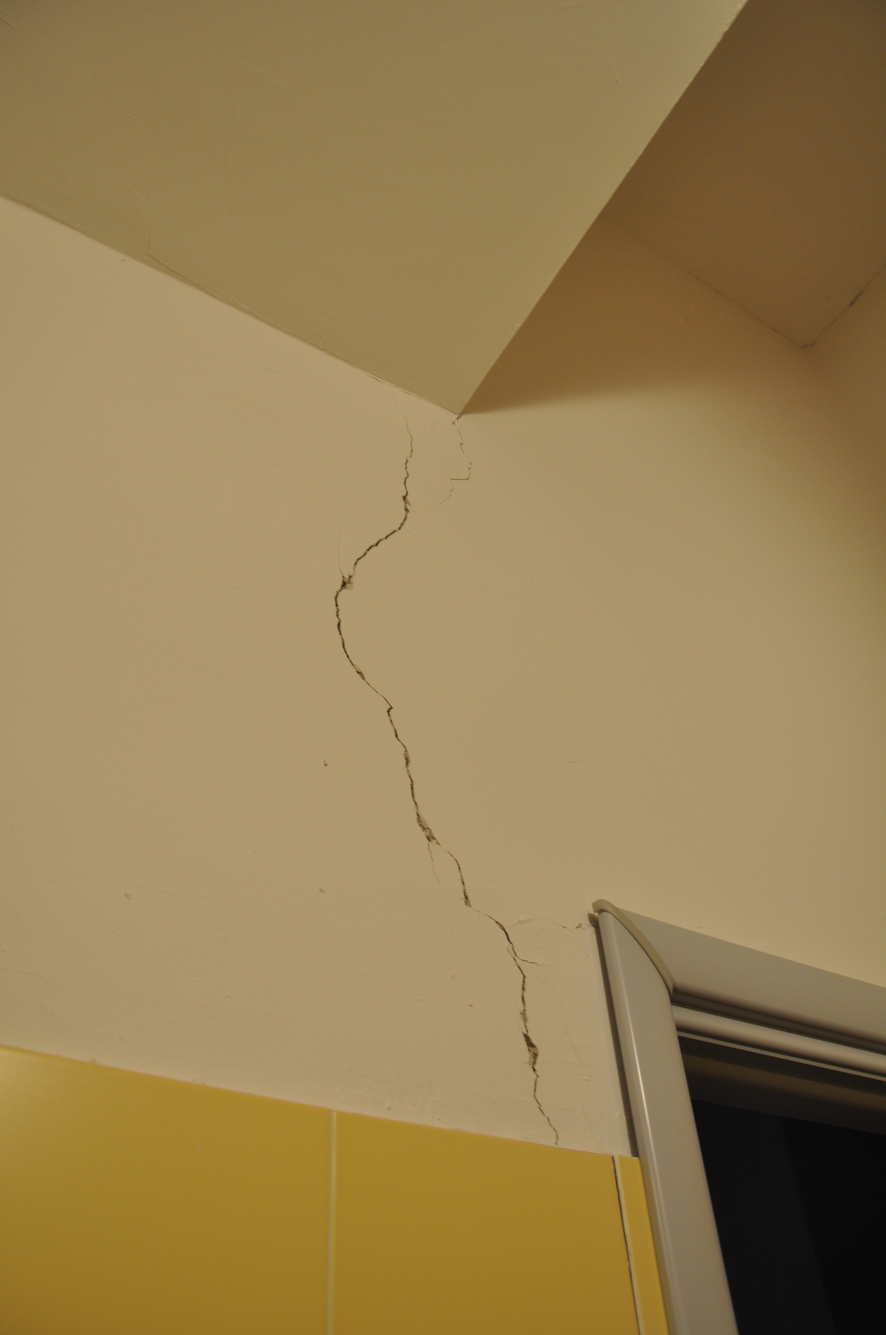Crack: (263, 371, 627, 1161)
